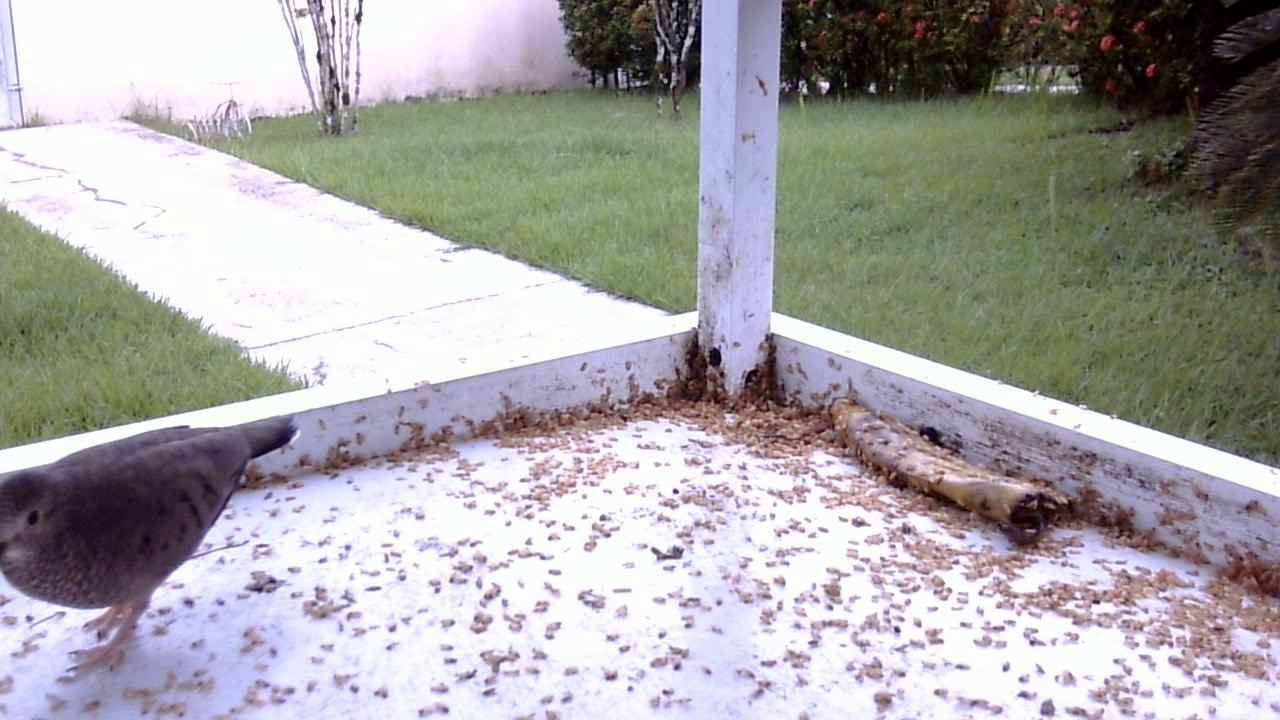rolinha: (3, 404, 302, 688)
